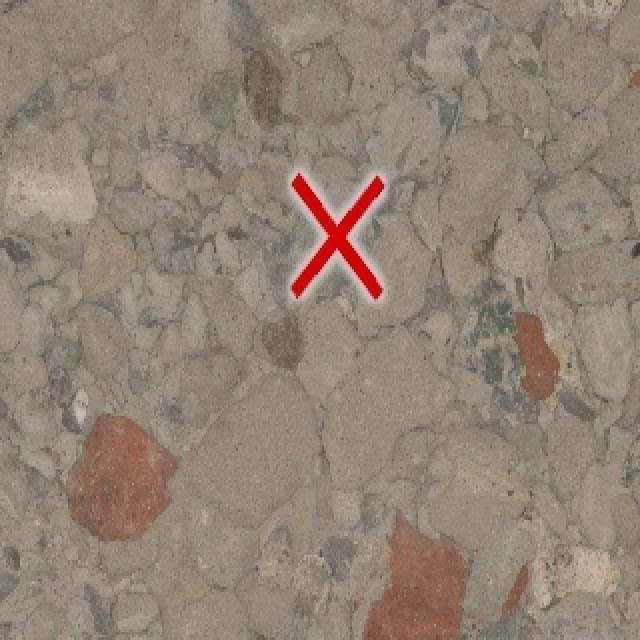x_marker: (291, 172, 383, 297)
